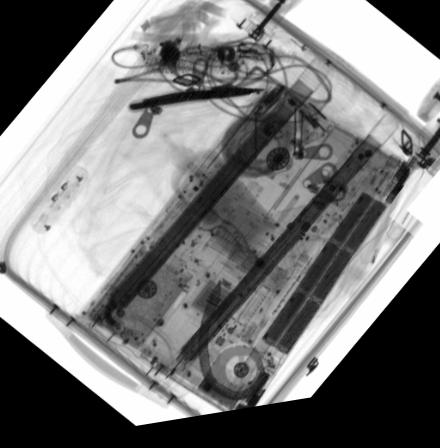Pliers: (128, 91, 266, 116)
